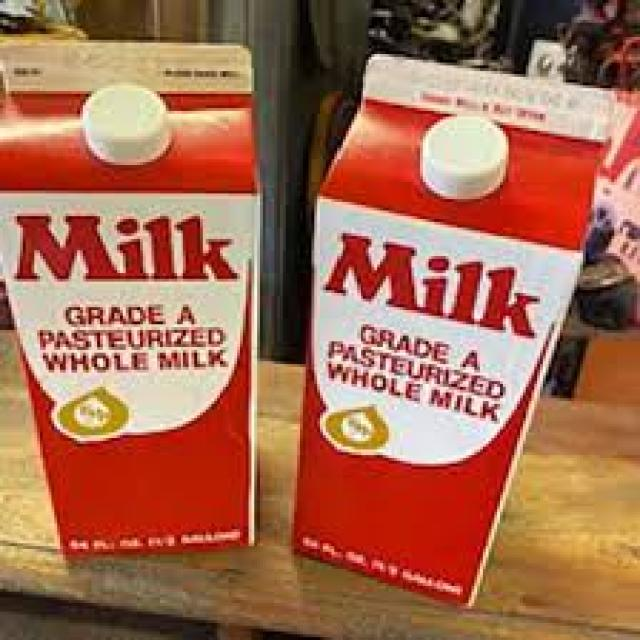cardboard: (292, 47, 611, 603), (0, 38, 261, 558)
